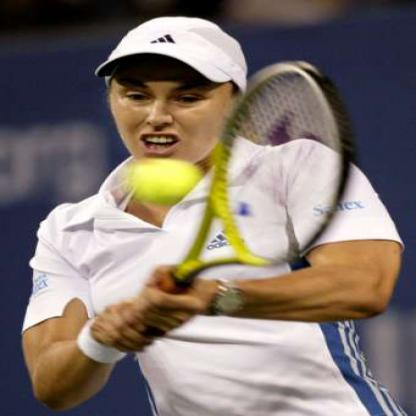face: (108, 18, 238, 175)
